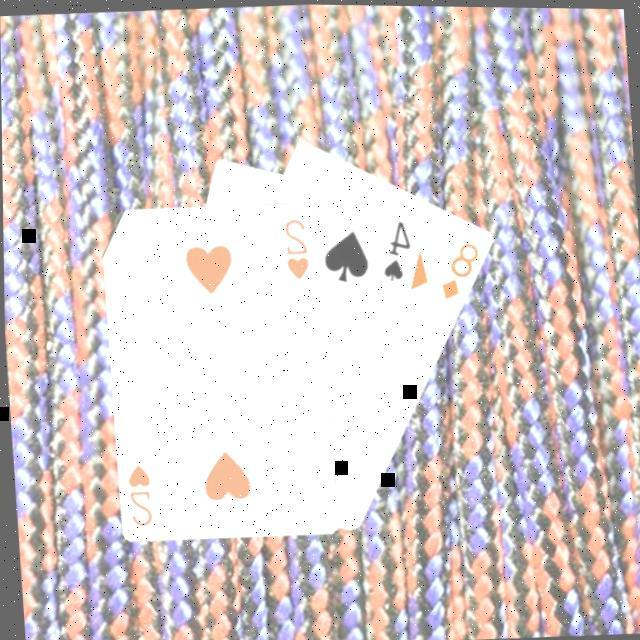2H: (281, 212, 316, 281), (124, 458, 157, 528)
4S: (378, 213, 418, 282)
8D: (436, 236, 487, 302)
